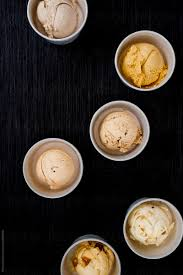ice-cream: (120, 43, 166, 88), (128, 204, 173, 247), (99, 111, 142, 154), (34, 149, 75, 189), (36, 1, 78, 38), (72, 242, 115, 275)
